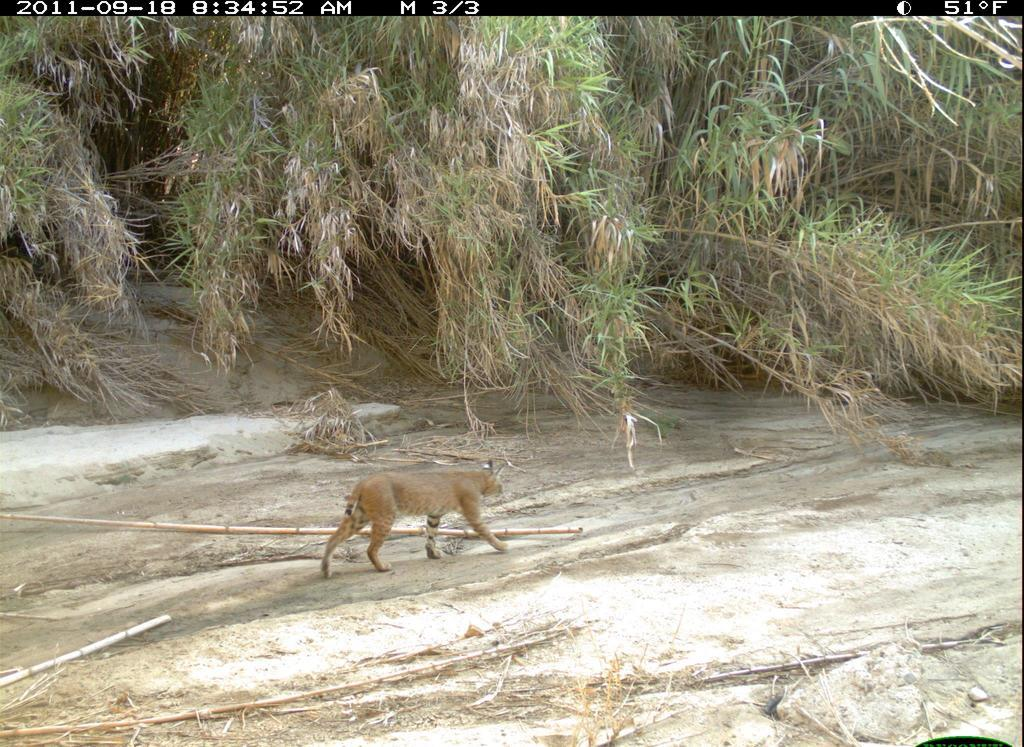bobcat: (321, 454, 521, 584)
